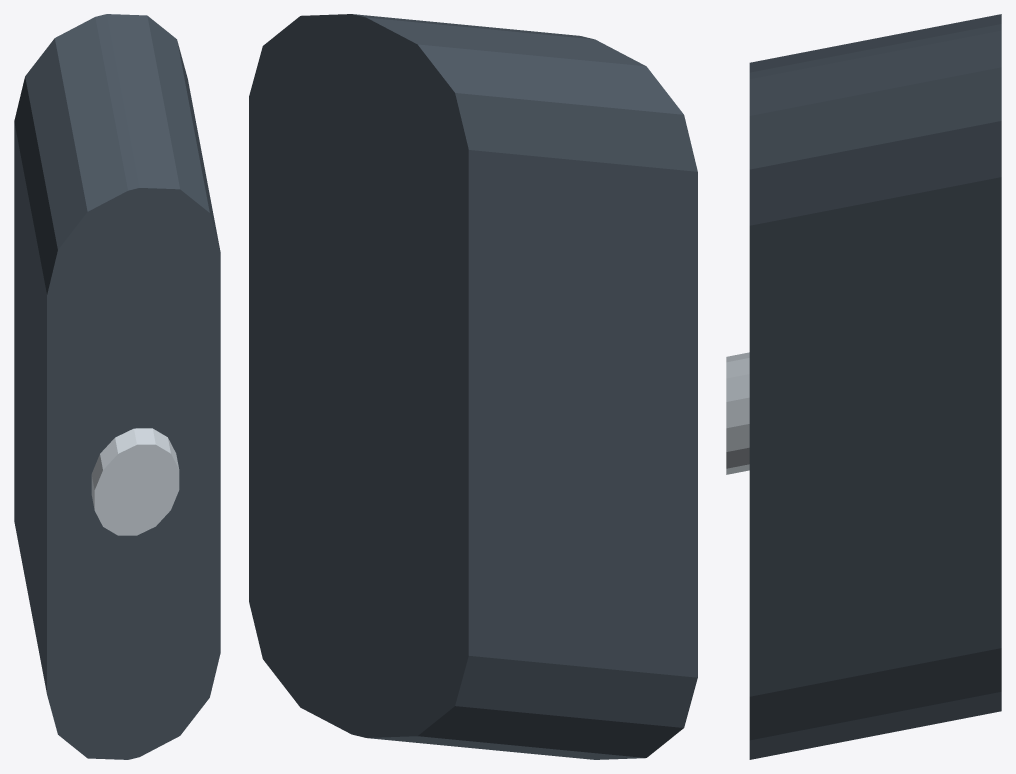
File: Edge_Shutter.gltf
The picture shows the model from 3 angles, left to right: view 1: azimuth 30°, elevation 25°; view 2: azimuth 150°, elevation 25°; view 3: azimuth 270°, elevation 25°; orthographic projection. The views are drawn at different scales.
Visible parts, largest first — view 1: Edge_Shutter_baked; view 2: Edge_Shutter_baked; view 3: Edge_Shutter_baked.
Boxes of the visible parts, x1,y1,x2,y2 form: Edge_Shutter_baked: (14, 14, 220, 759); Edge_Shutter_baked: (249, 14, 697, 759); Edge_Shutter_baked: (726, 14, 1001, 759).
Bounding box in the file's own units: 0.428 × 1.07 × 0.35.
